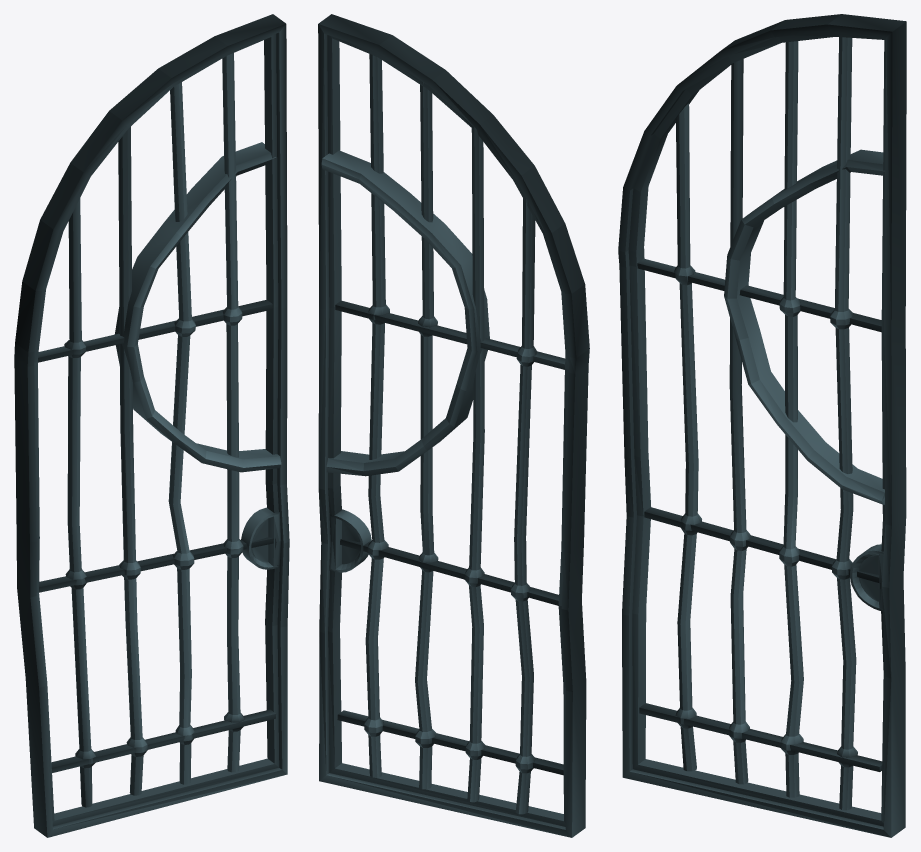
The model's file is obj_gateDoor_left.FBX.
3 views of the same model, side by side, from view 1: azimuth 30°, elevation 25°; view 2: azimuth 150°, elevation 25°; view 3: azimuth 330°, elevation 25° (orthographic). The views are drawn at different scales.
Visible parts, largest first — view 1: obj_gateDoor_left; view 2: obj_gateDoor_left; view 3: obj_gateDoor_left.
Boxes of the visible parts, <box> form: obj_gateDoor_left: <box>14,14,289,837</box>; obj_gateDoor_left: <box>318,14,589,837</box>; obj_gateDoor_left: <box>618,14,906,837</box>.
Size of the model in its own units: 1.67 by 4.65 by 0.2713.
